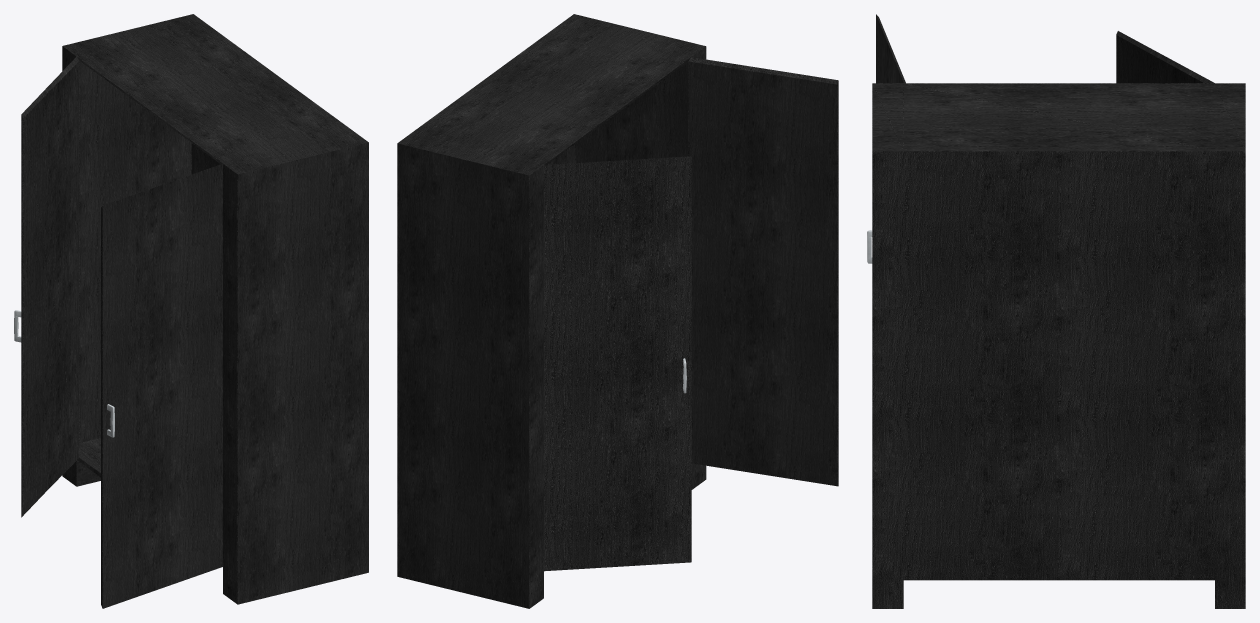
Rendered from SM_Cupboard.fbx.
The picture shows the model from 3 angles, left to right: view 1: azimuth 30°, elevation 25°; view 2: azimuth 150°, elevation 25°; view 3: azimuth 270°, elevation 25°; orthographic projection. The views are drawn at different scales.
Visible parts, largest first — view 1: Box001; view 2: Box001; view 3: Box001.
Boxes of the visible parts, <box> form: Box001: <box>21,14,368,608</box>; Box001: <box>397,14,838,608</box>; Box001: <box>872,14,1245,608</box>.
Size of the model in its own units: 83.12 by 129 by 96.67.
Materials: 3 (3 with a texture image).
